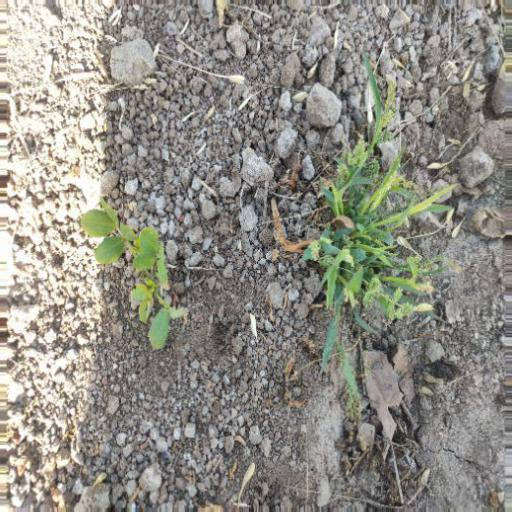weed: (298, 99, 450, 343), (71, 195, 181, 357)
